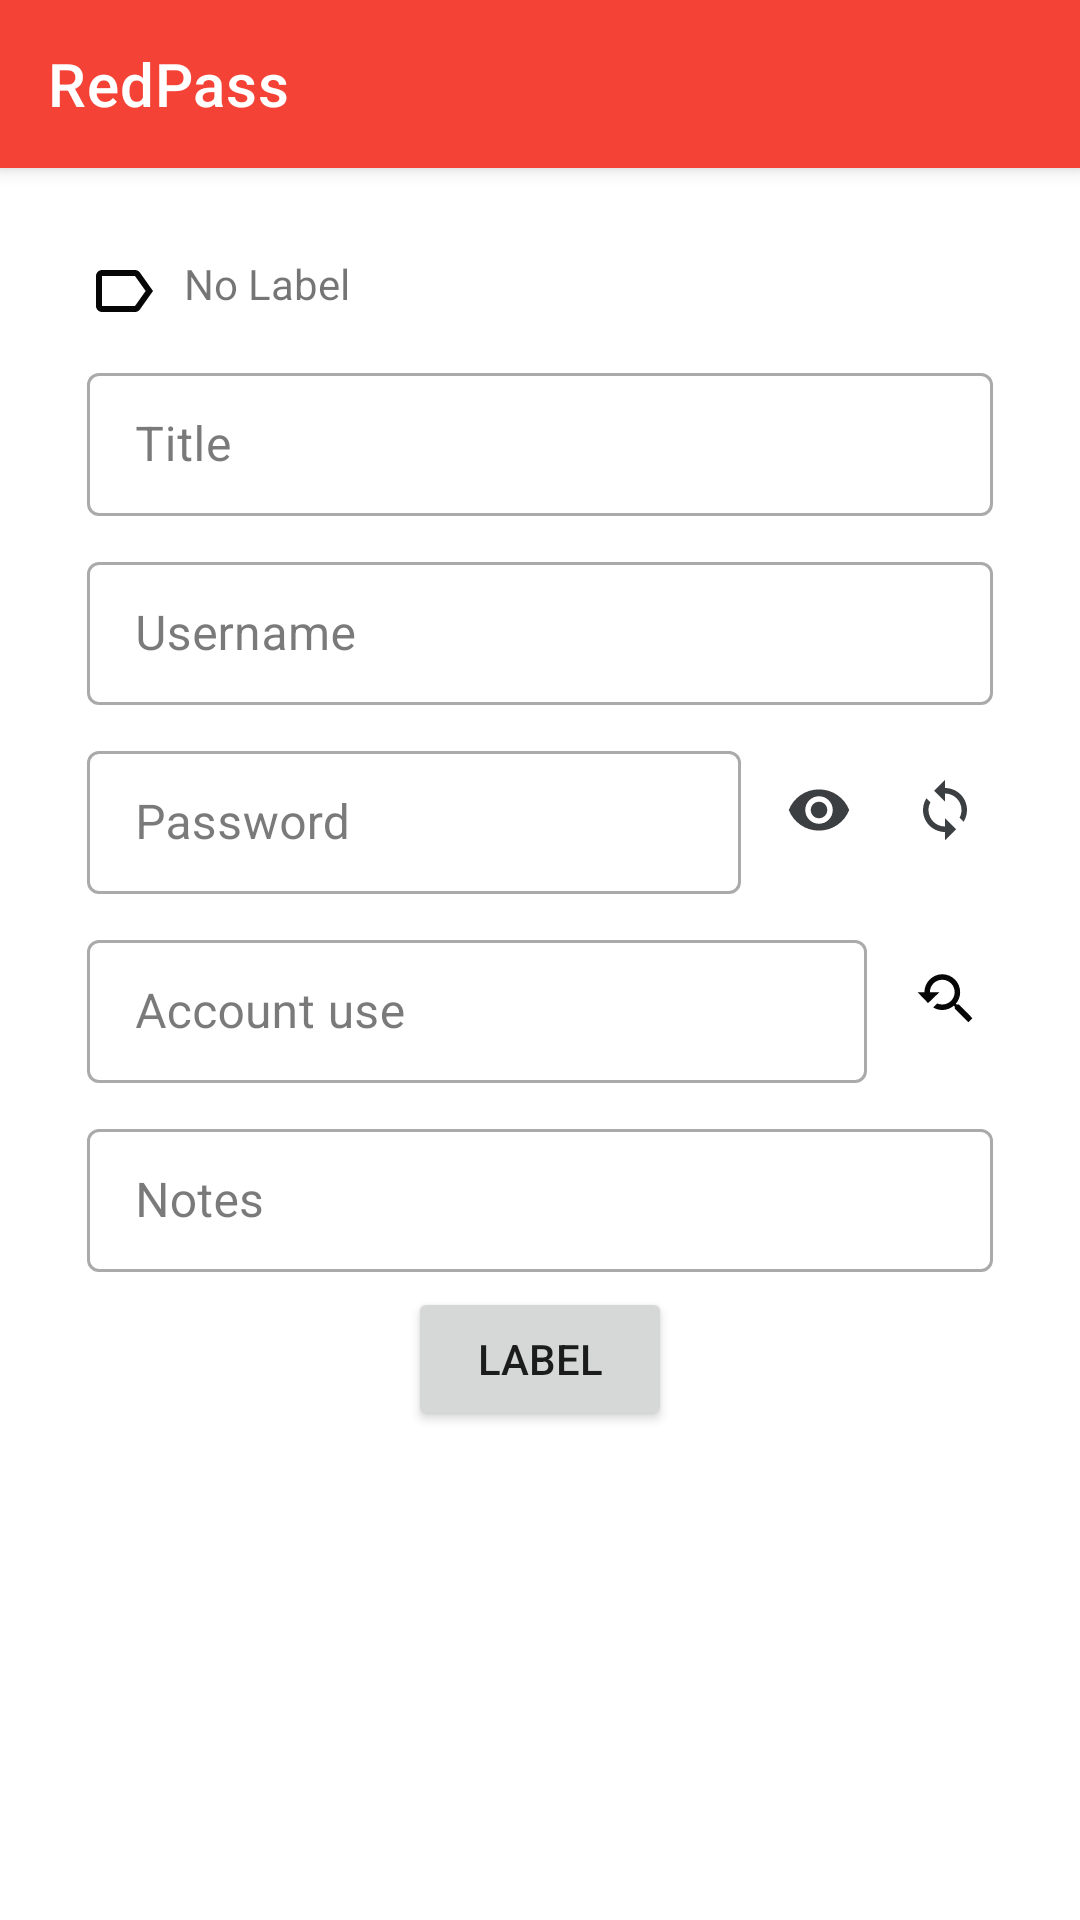

Point at icon controls on the screen. Image size 1080 x 1920, points as point (x, y).
Generate Random Password: point (945, 810)
Search In Google: point (945, 998)
show: point (819, 810)
